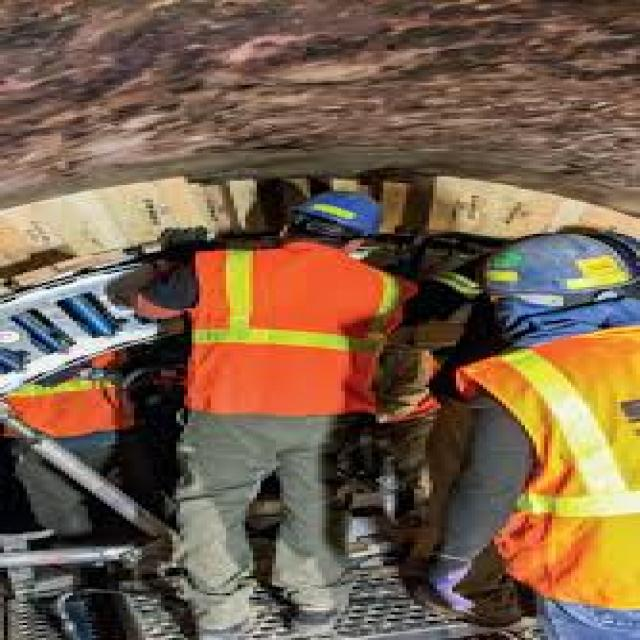Reflective-Jacket: (437, 323, 636, 619), (161, 243, 414, 432)
Safety-Helmet: (456, 227, 636, 317), (268, 183, 410, 247)
